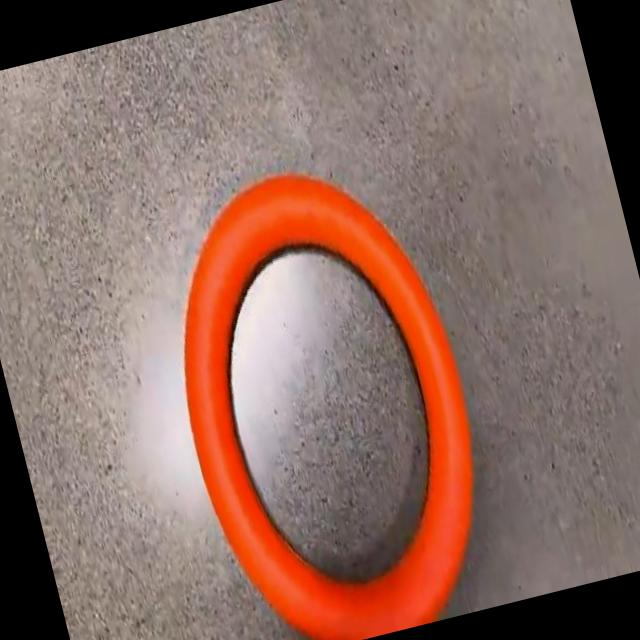note: (184, 174, 473, 640)
